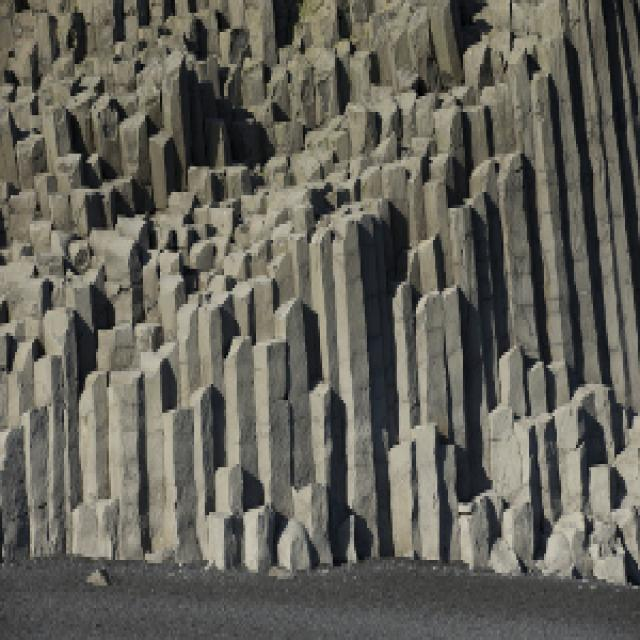Igneous: (11, 3, 638, 550)
